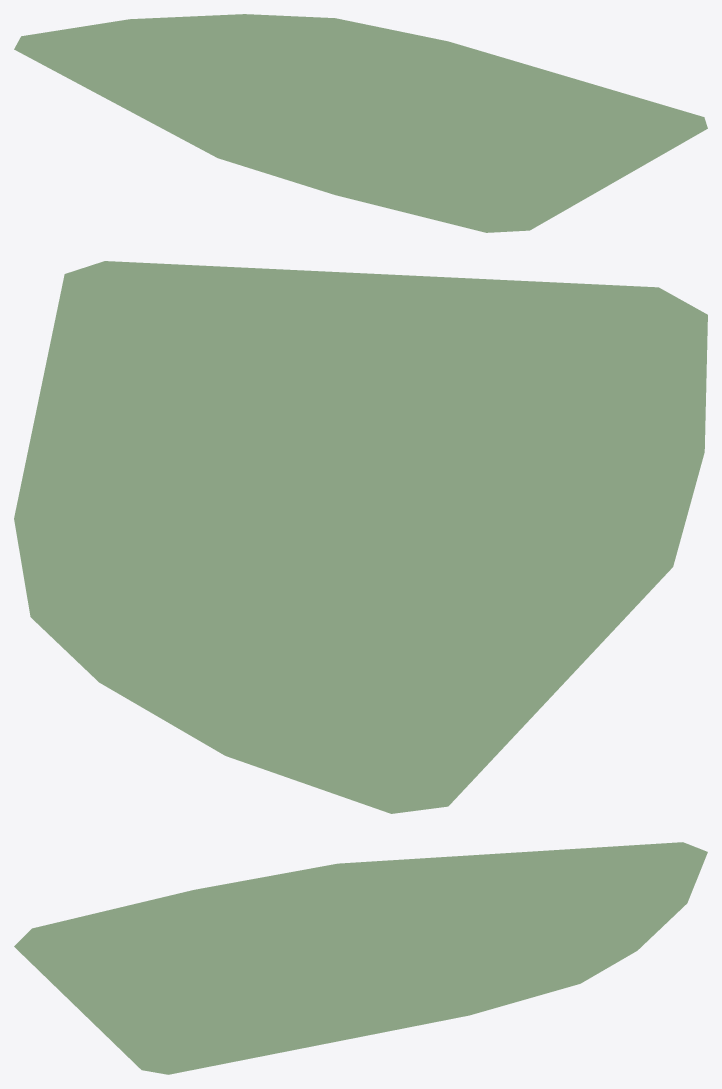
File: 123_82_mid.glb
3 renders of one model, top to bottom at view 1: azimuth 30°, elevation 25°; view 2: azimuth 150°, elevation 25°; view 3: azimuth 270°, elevation 25°, orthographic. The views are drawn at different scales.
Size of the model in its own units: 195 by 0 by 246.
